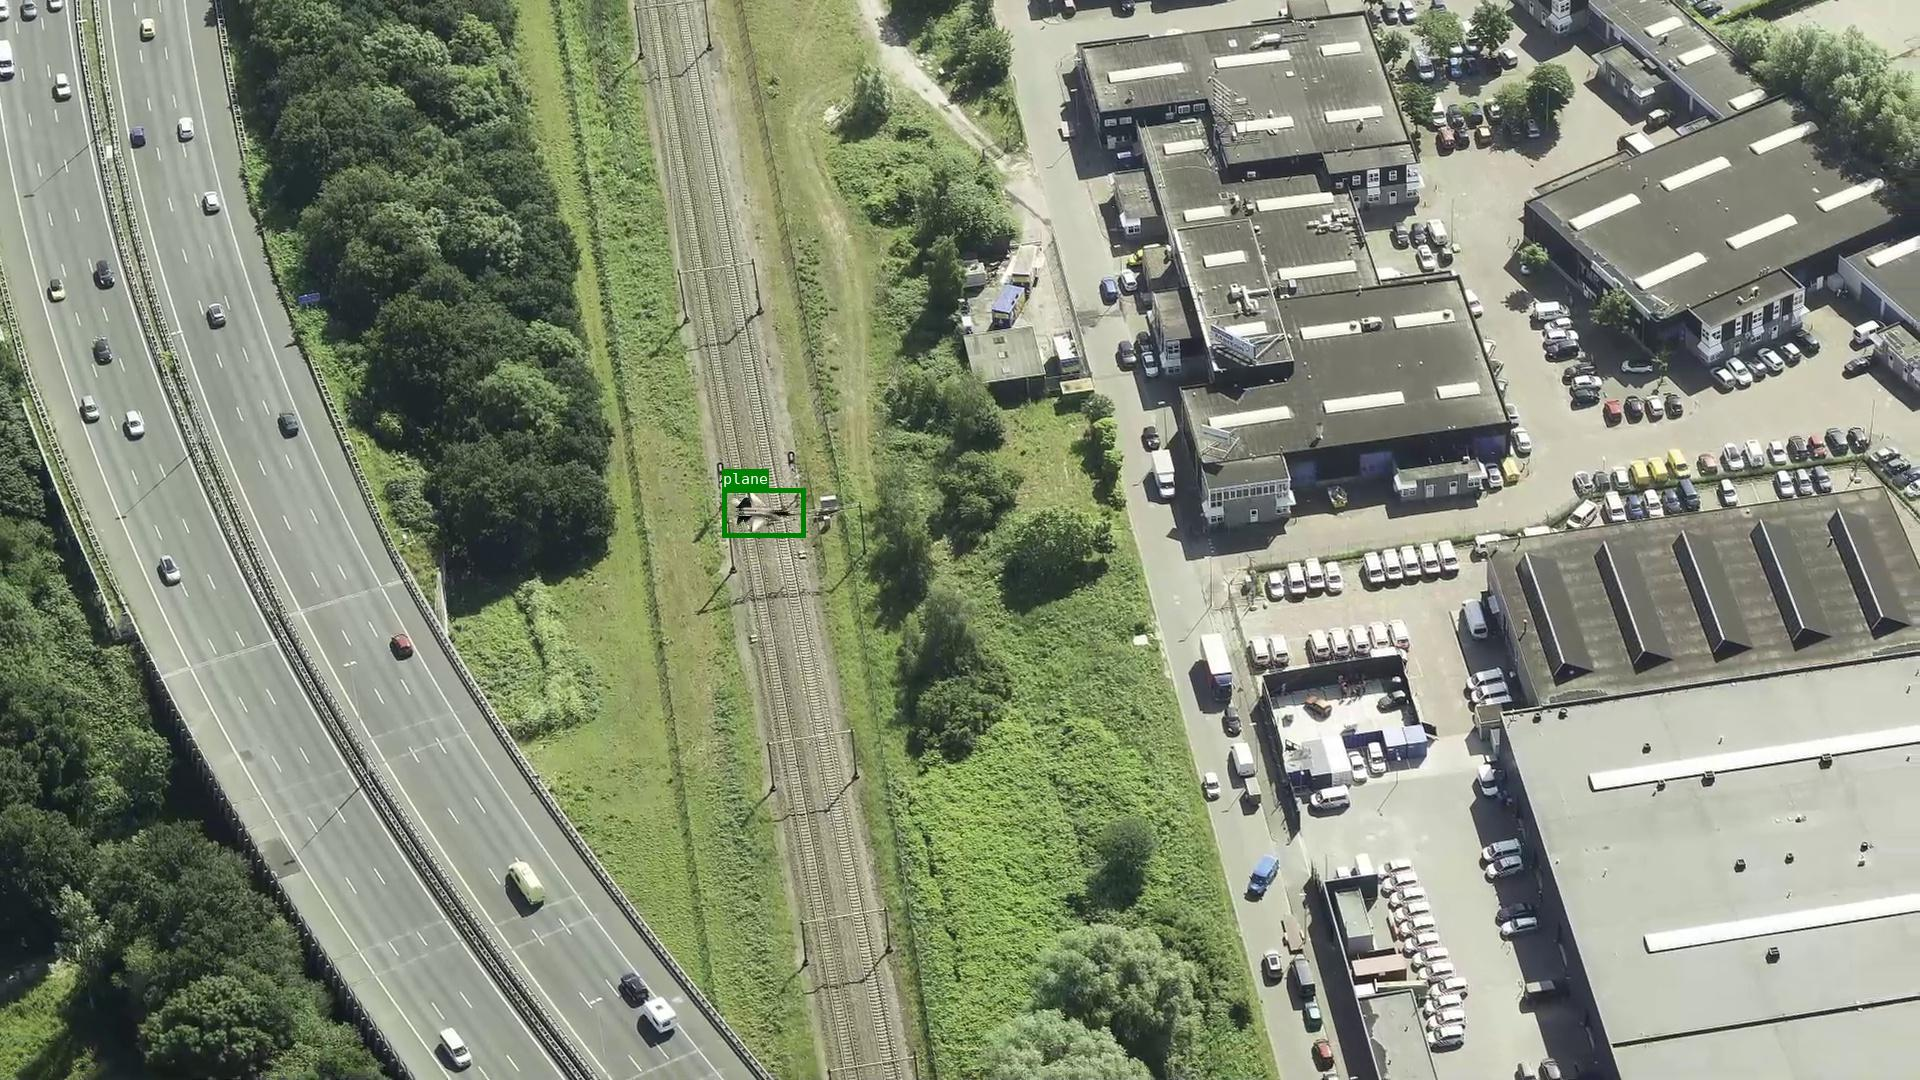plane: (723, 488, 804, 537)
